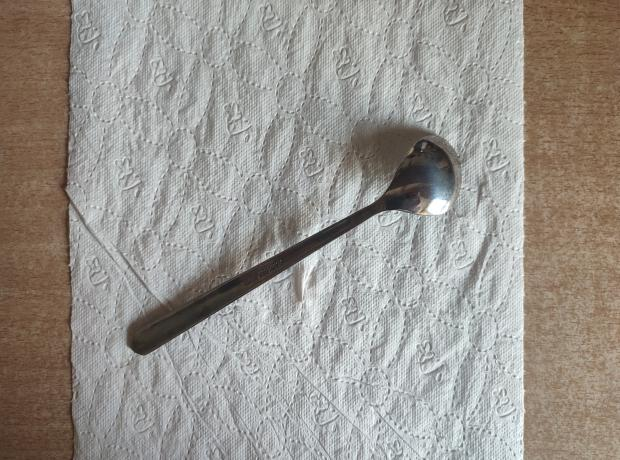metal: (129, 133, 463, 357)
